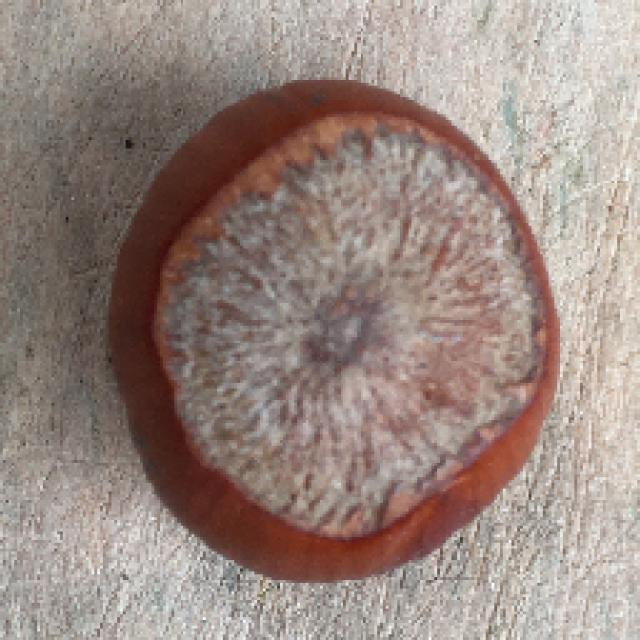QualityHazelnut: (112, 77, 563, 588)
